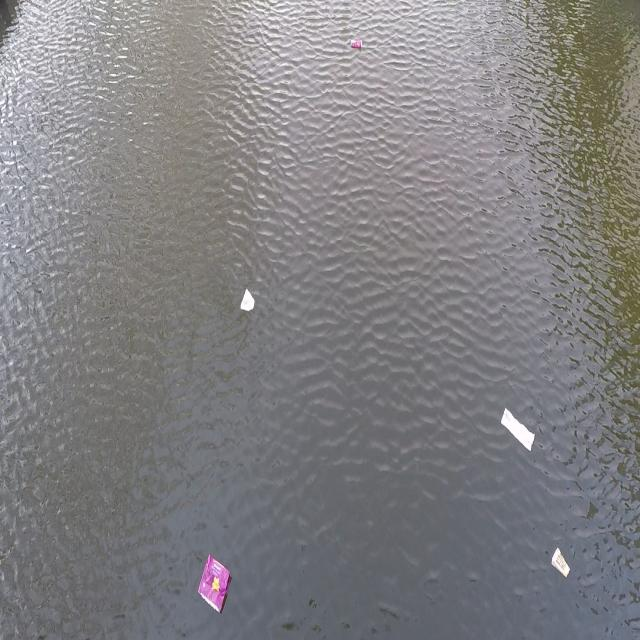Autre plastique: (500, 406, 538, 459), (238, 287, 256, 320)
Non plastique: (552, 545, 572, 581)
